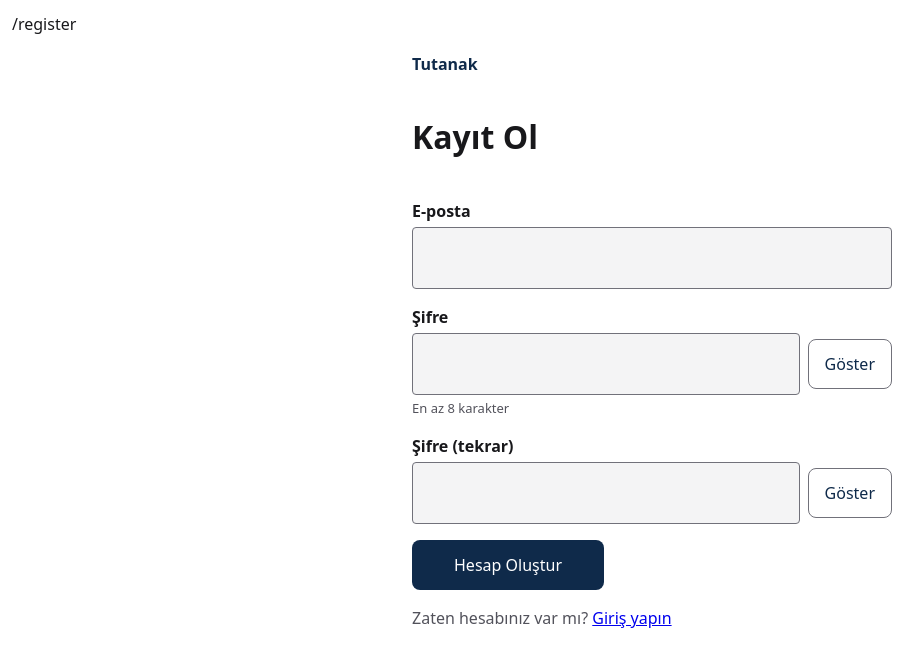
Test: RegisterPage › yukleniyor durumu (kriter 5) › istek surerken butonu ve tum alanlari devre disi birakir
The width and height of the screenshot is (913, 645).
Type "selin@ornek.com" into the field labelled "E-posta".
click(652, 258); type("selin@ornek.com")  # box [412, 227, 892, 289]
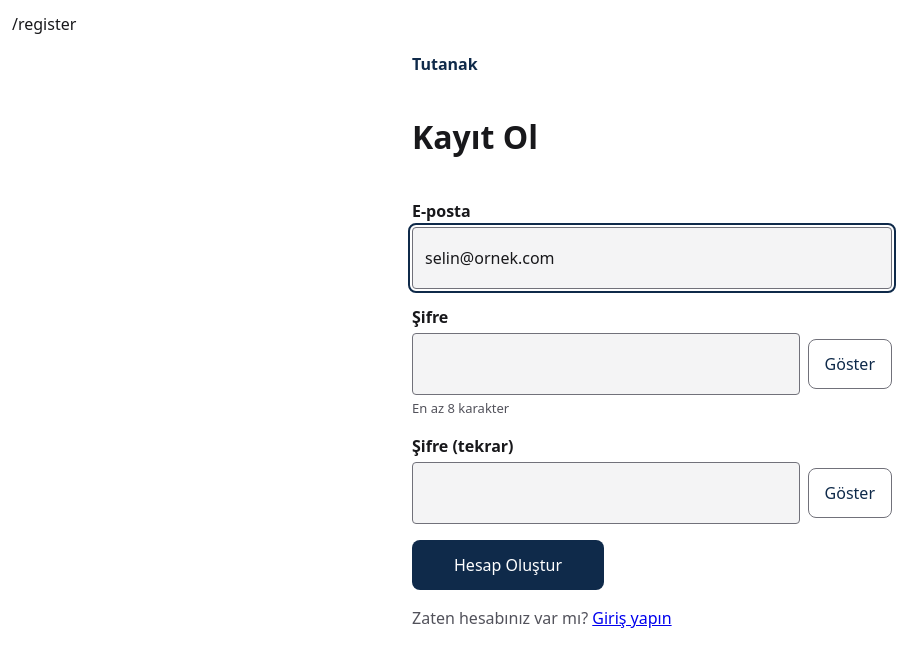
Type "cok-gizli-8" into the password field labelled "Şifre".
click(606, 364); type("cok-gizli-8")  # box [412, 333, 800, 395]
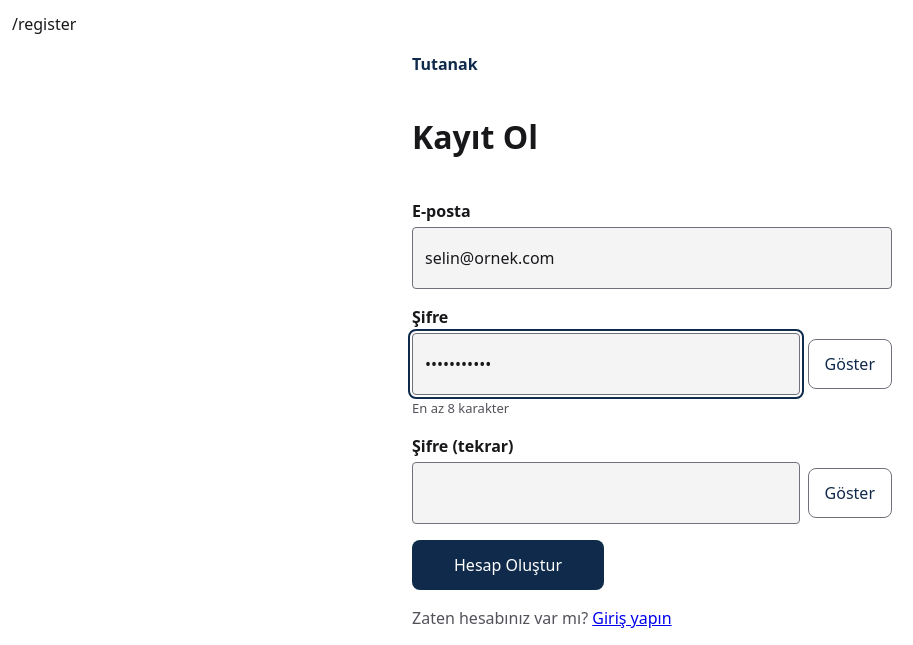
Type "cok-gizli-8" into the password field labelled "Şifre (tekrar)".
click(606, 493); type("cok-gizli-8")  # box [412, 462, 800, 524]
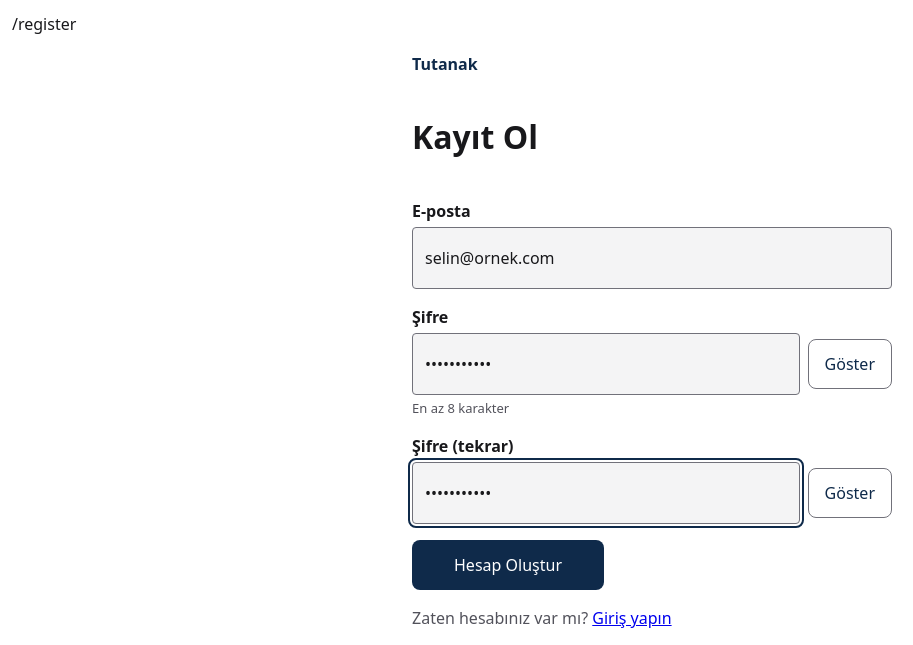
Click the button "Hesap Oluştur".
click(508, 565)  # box [412, 540, 604, 590]
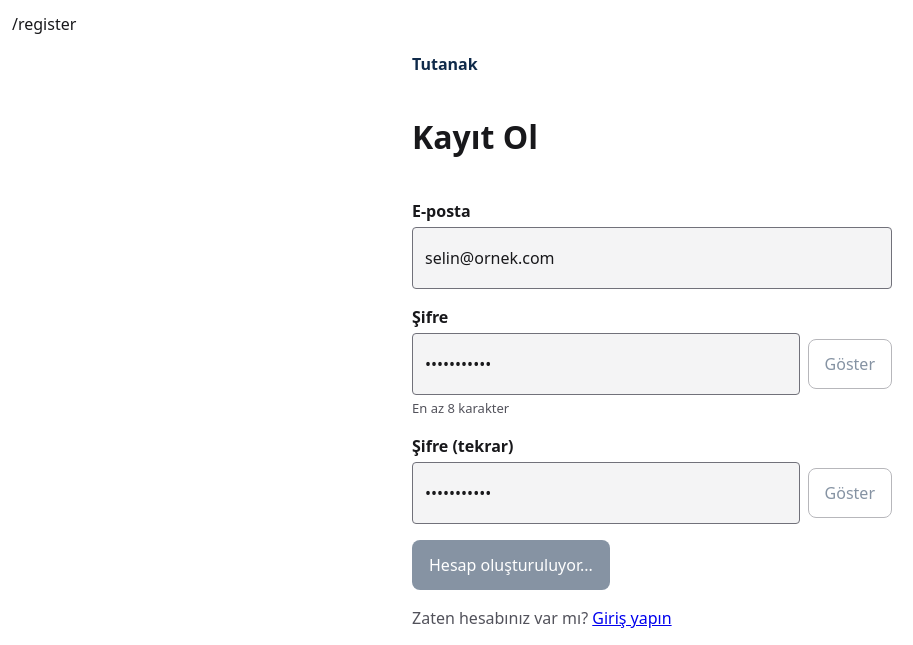
Expected: the field labelled "E-posta" is disabled, [412, 227, 892, 289]
Expected: the button "Hesap oluşturuluyor..." is disabled, [412, 540, 610, 590]
